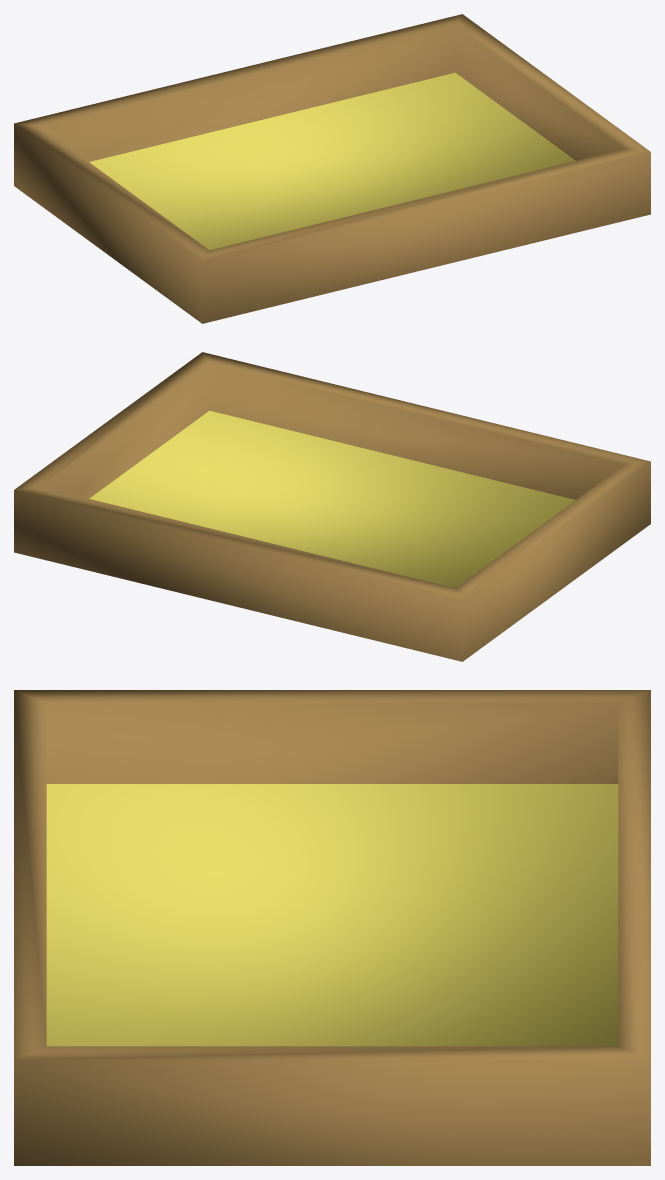
The model's file is SandBox.fbx.
3 views of the same model, one above another, from view 1: azimuth 30°, elevation 25°; view 2: azimuth 150°, elevation 25°; view 3: azimuth 270°, elevation 25° (orthographic). The views are drawn at different scales.
Visible parts, largest first — view 1: SandBox; view 2: SandBox; view 3: SandBox.
Part boxes in pixels (x1,y1,x2,y2): SandBox: (14, 14, 650, 323); SandBox: (14, 352, 650, 661); SandBox: (14, 690, 650, 1165).
Bounding box in the file's own units: 156 × 20.82 × 114.
